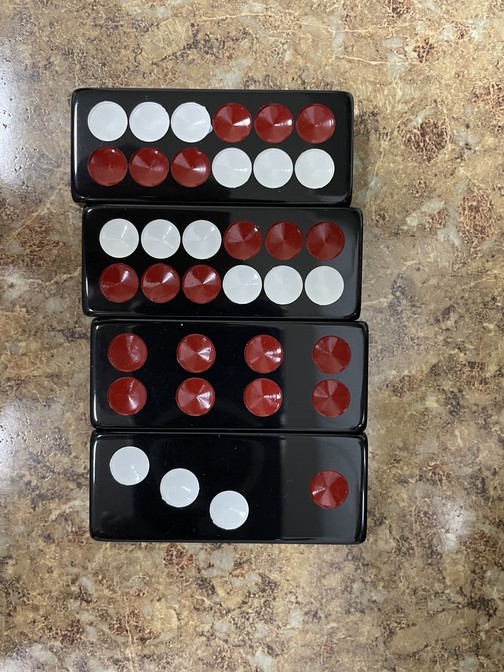goose: (88, 436, 367, 544)
heaven: (71, 87, 353, 207), (83, 207, 363, 321)
man: (90, 322, 370, 433)
